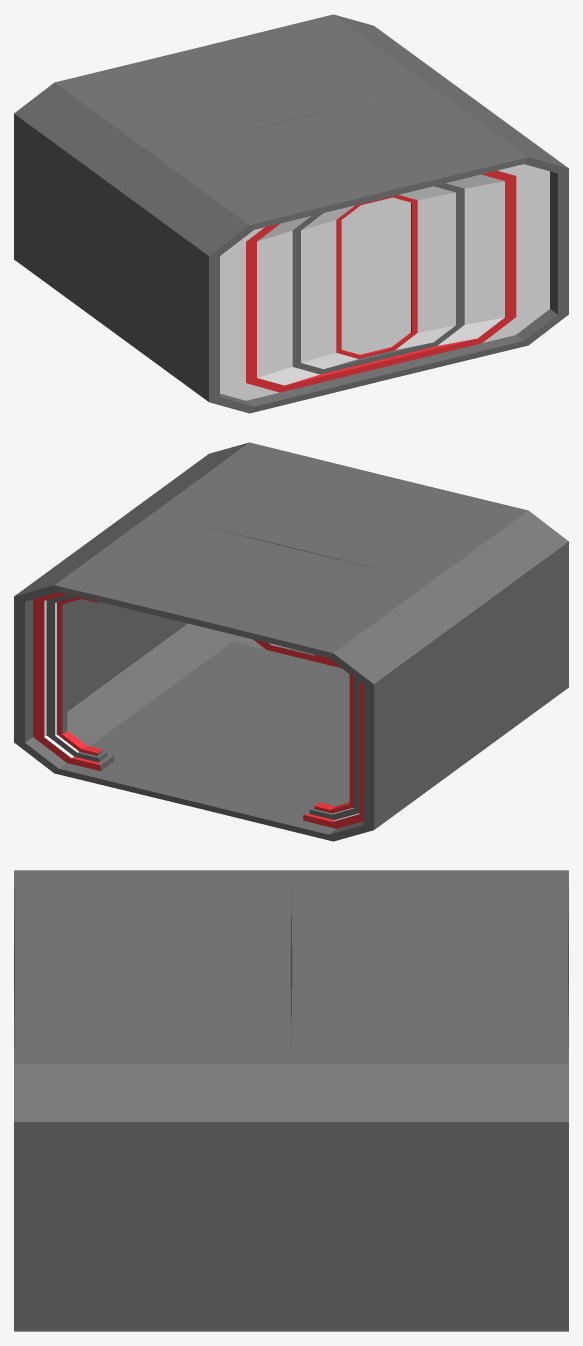
File: Door.fbx
3 renders of one model, top to bottom at view 1: azimuth 30°, elevation 25°; view 2: azimuth 150°, elevation 25°; view 3: azimuth 270°, elevation 25°, orthographic. The views are drawn at different scales.
Visible parts, largest first — view 1: CubeClosed, CubeOpen; view 2: CubeOpen, CubeClosed; view 3: CubeOpen, CubeClosed.
Part boxes in pixels (bbox=[...]): CubeClosed: bbox=[111, 86, 568, 413]; CubeOpen: bbox=[14, 14, 470, 330]; CubeOpen: bbox=[14, 514, 471, 841]; CubeClosed: bbox=[112, 442, 568, 758]; CubeOpen: bbox=[291, 870, 568, 1331]; CubeClosed: bbox=[14, 870, 291, 1331].
Size of the model in its own units: 1278 by 640 by 1200.
